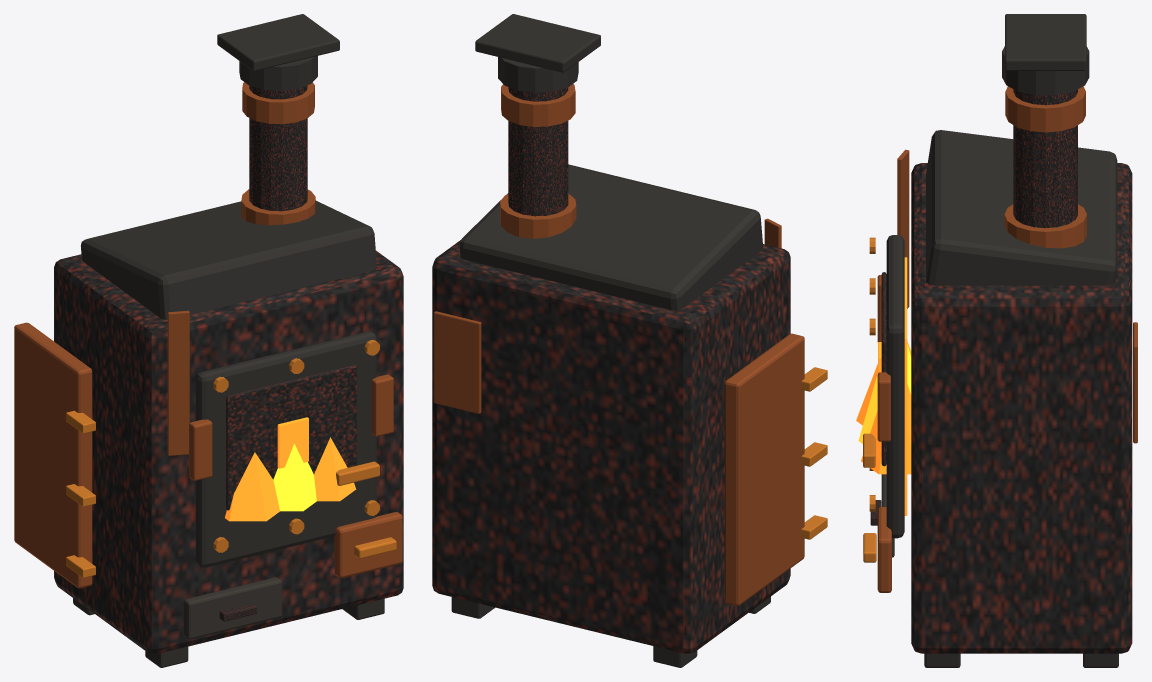
Rendered from makeshift_furnace.glb.
The picture shows the model from 3 angles, left to right: view 1: azimuth 30°, elevation 25°; view 2: azimuth 150°, elevation 25°; view 3: azimuth 270°, elevation 25°; orthographic projection. The views are drawn at different scales.
Parts seen in each view (by area): view 1: Furnace main welded body, Furnace sloped crown, Side tool rack, Heavy fire door, Door heat shield, Lower smoke pipe, Chimney cap plate, Ash drawer, Diagonal repair strap, Fuel hatch, Furnace flame, Smoke pipe collar.001 (+10 smaller); view 2: Furnace main welded body, Furnace sloped crown, Side tool rack, Lower smoke pipe, Chimney cap plate, Patch plate, Smoke pipe collar.001, Bent chimney cap, Smoke pipe collar, Furnace foot.001, Furnace foot.003; view 3: Furnace main welded body, Furnace sloped crown, Lower smoke pipe, Heavy fire door, Chimney cap plate, Smoke pipe collar.001, Bent chimney cap, Smoke pipe collar, Diagonal repair strap, Fuel hatch, Ember throat, Door hinge.001 (+7 smaller).
Part boxes in pixels (x1,y1,x2,y2): Furnace main welded body: (54,250,403,653); Furnace sloped crown: (81,200,376,319); Side tool rack: (14,322,92,588); Heavy fire door: (195,331,376,567); Door heat shield: (226,364,356,510); Lower smoke pipe: (249,85,307,211); Chimney cap plate: (217,14,339,71); Ash drawer: (183,577,281,639); Diagonal repair strap: (167,310,189,455); Fuel hatch: (334,512,402,577); Furnace flame: (225,452,279,521); Smoke pipe collar.001: (242,82,314,124); Furnace main welded body: (432,239,790,653); Furnace sloped crown: (459,164,763,310); Side tool rack: (724,333,804,605); Lower smoke pipe: (508,87,568,216); Chimney cap plate: (475,14,600,72); Patch plate: (433,311,481,413); Smoke pipe collar.001: (501,84,575,126); Bent chimney cap: (498,57,578,92); Smoke pipe collar: (500,193,576,238); Furnace foot.001: (653,646,697,667); Furnace foot.003: (451,597,494,618); Furnace main welded body: (911,163,1132,653); Furnace sloped crown: (926,130,1117,285); Lower smoke pipe: (1013,89,1077,228); Heavy fire door: (886,235,904,538); Chimney cap plate: (1005,14,1086,70); Smoke pipe collar.001: (1005,86,1085,132); Bent chimney cap: (1002,46,1089,95); Smoke pipe collar: (1004,204,1086,248); Diagonal repair strap: (897,149,909,308); Fuel hatch: (877,507,891,592); Ember throat: (904,257,907,515); Door hinge.001: (877,372,890,441).
Size of the model in its own units: 1.63 by 2.78 by 1.17.
7 materials, 1 textured.
